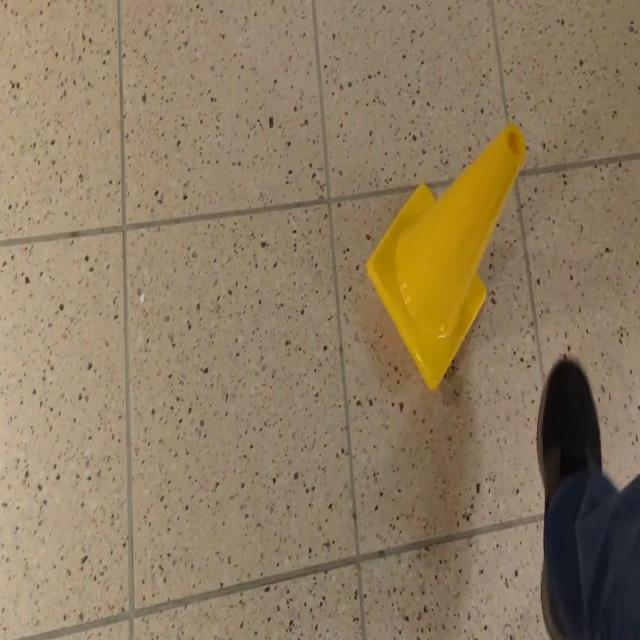frc_cone: (365, 123, 527, 391)
